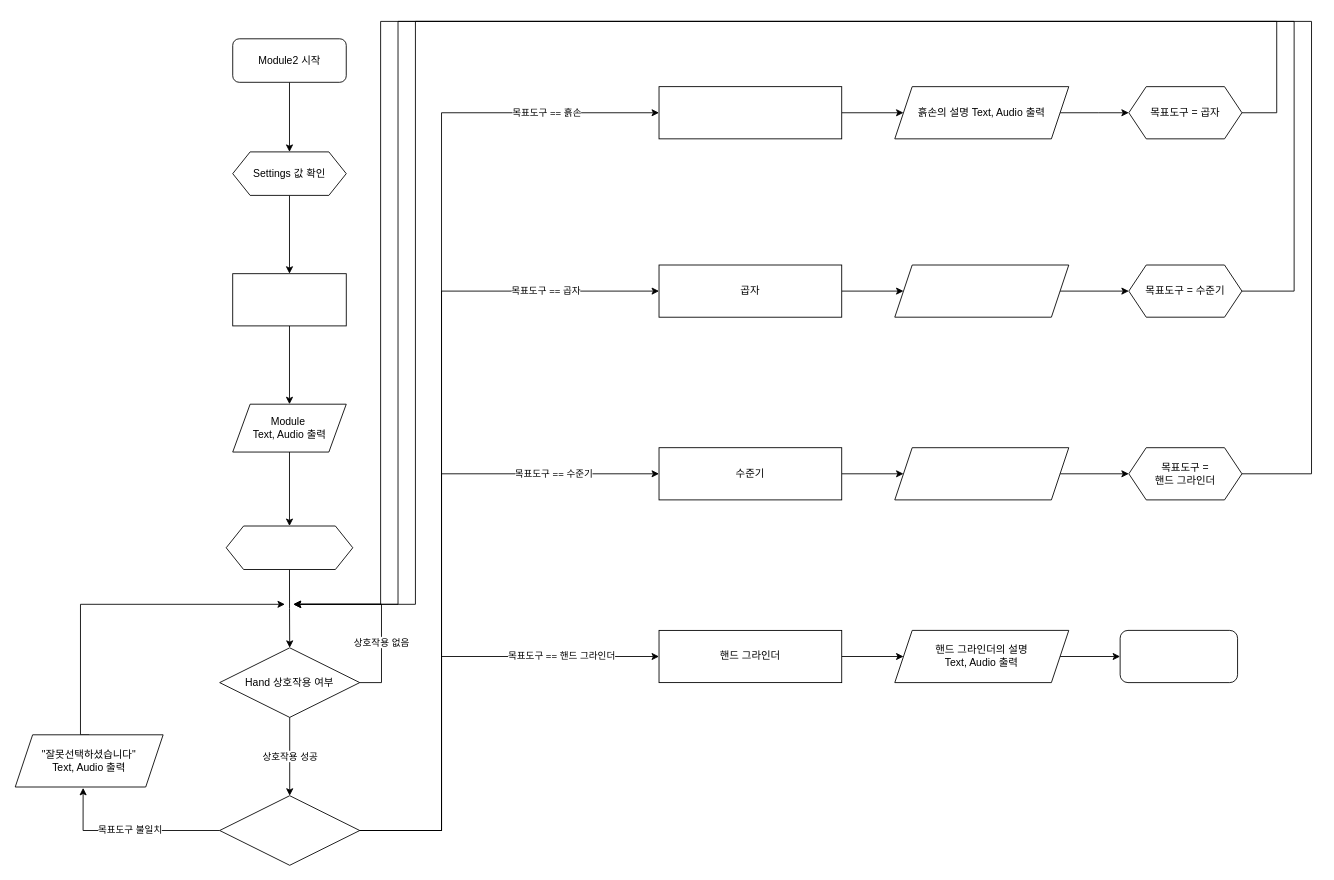
Some shapes in this 1334 by 880 pixel diagram are drawn without their labels. The box of each missing label's shape, as (x1, y1, x2, y2) in pixels:
Module2 끝: (1119, 630, 1238, 683)
값에 따른 Text, Audio 선택: (232, 273, 346, 326)
곱자의 설명 Text, Audio 출력: (894, 264, 1069, 317)
목표도구 = 흙손: (225, 525, 353, 570)
수준기의 설명 Text, Audio 출력: (894, 447, 1069, 500)
시공도구 종류: (219, 795, 360, 865)
흙손: (658, 86, 842, 139)
